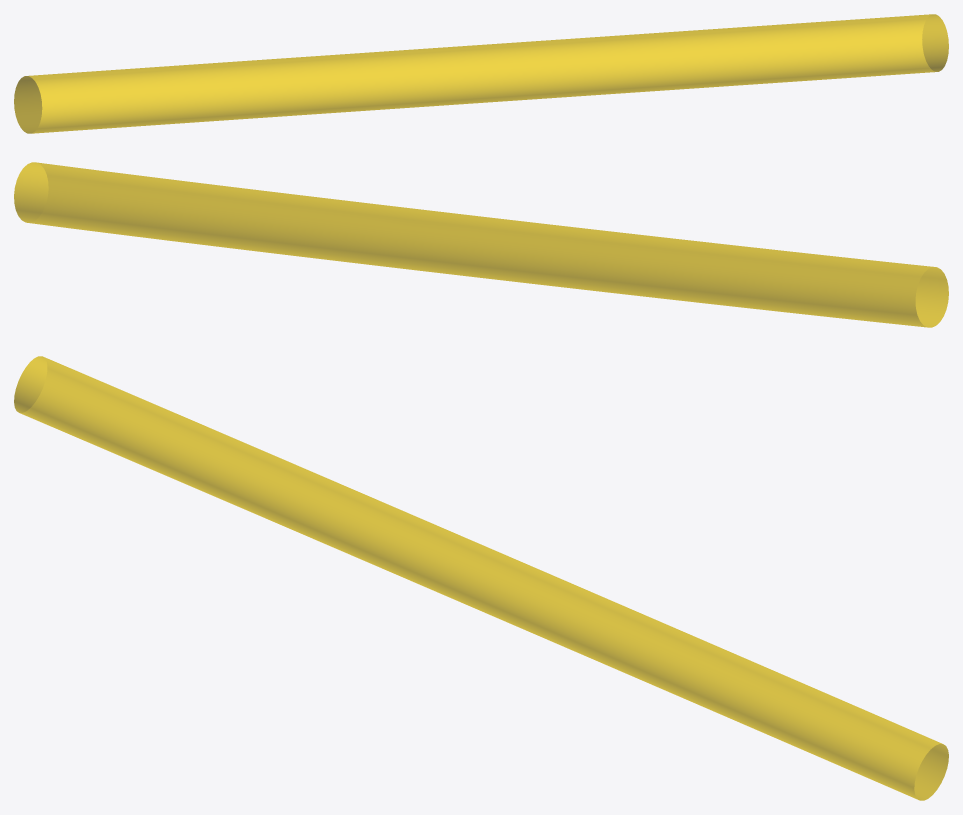
File: Event_27938768_track_38.fbx
3 views of the same model, one above another, from view 1: azimuth 30°, elevation 25°; view 2: azimuth 150°, elevation 25°; view 3: azimuth 330°, elevation 25° (orthographic). The views are drawn at different scales.
Visible parts, largest first — view 1: Model; view 2: Model; view 3: Model.
Boxes of the visible parts, left/top/right/bottom form: Model: left=14, top=14, right=948, bottom=133; Model: left=14, top=162, right=948, bottom=327; Model: left=14, top=356, right=948, bottom=800.
Size of the model in its own units: 0.7052 by 0.1415 by 0.0753.
